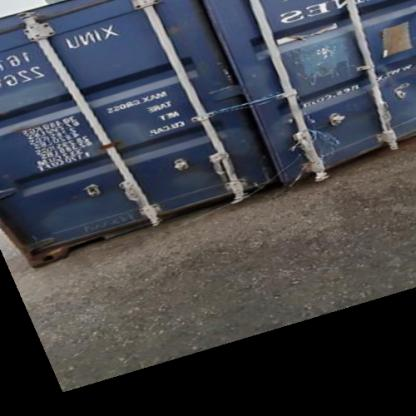Damage: (283, 110, 350, 168), (282, 37, 360, 86)
